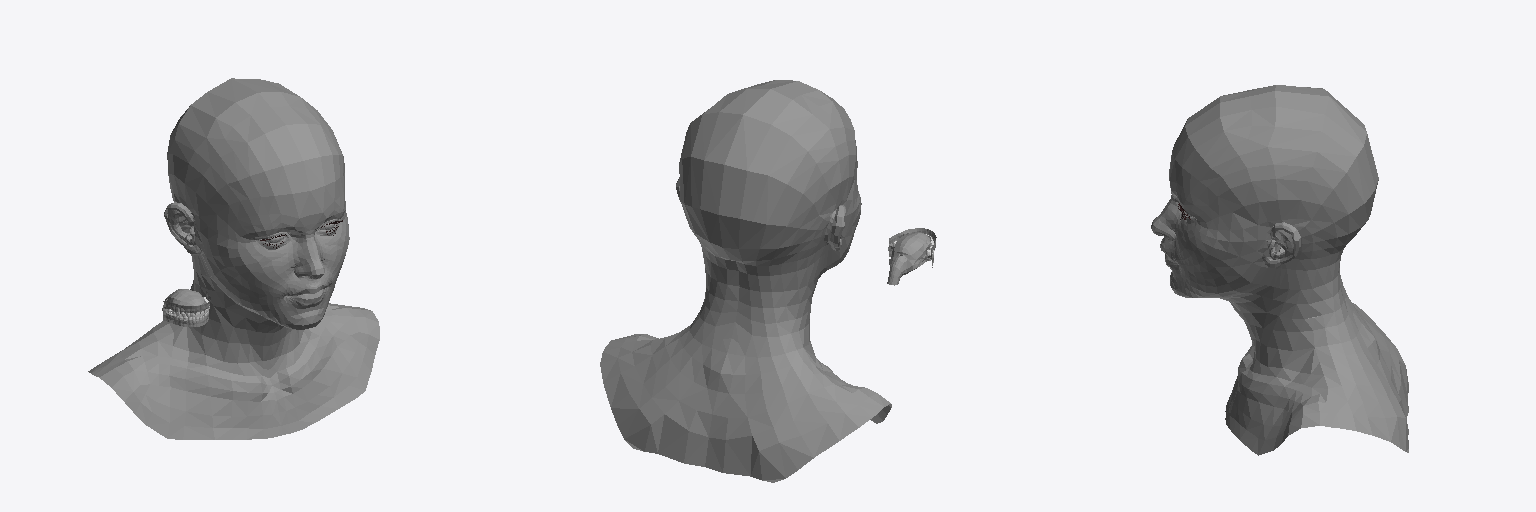
File: Female_head-obj.obj
3 renders of one model, left to right at view 1: azimuth 30°, elevation 25°; view 2: azimuth 150°, elevation 25°; view 3: azimuth 270°, elevation 25°, orthographic.
Parts seen in each view (by area): view 1: head____N, gums___cN; view 2: head____N, gums___cN; view 3: head____N.
Boxes of the visible parts, box(x1,y1,x2,y2) form: head____N: box(88, 78, 379, 439); gums___cN: box(162, 289, 210, 326); head____N: box(600, 80, 891, 482); gums___cN: box(887, 228, 936, 285); head____N: box(1151, 85, 1408, 455).
Size of the model in its own units: 336 by 388 by 276.